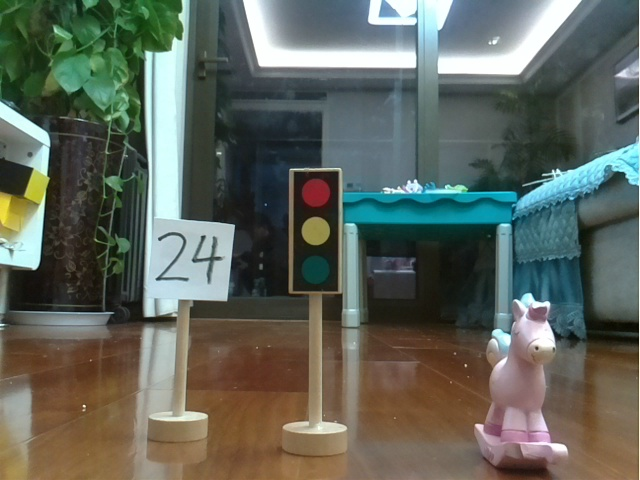Horse: (469, 289, 572, 468)
Red Traffic Light: (278, 162, 357, 455)
Speed Limit 24: (142, 213, 239, 447)
